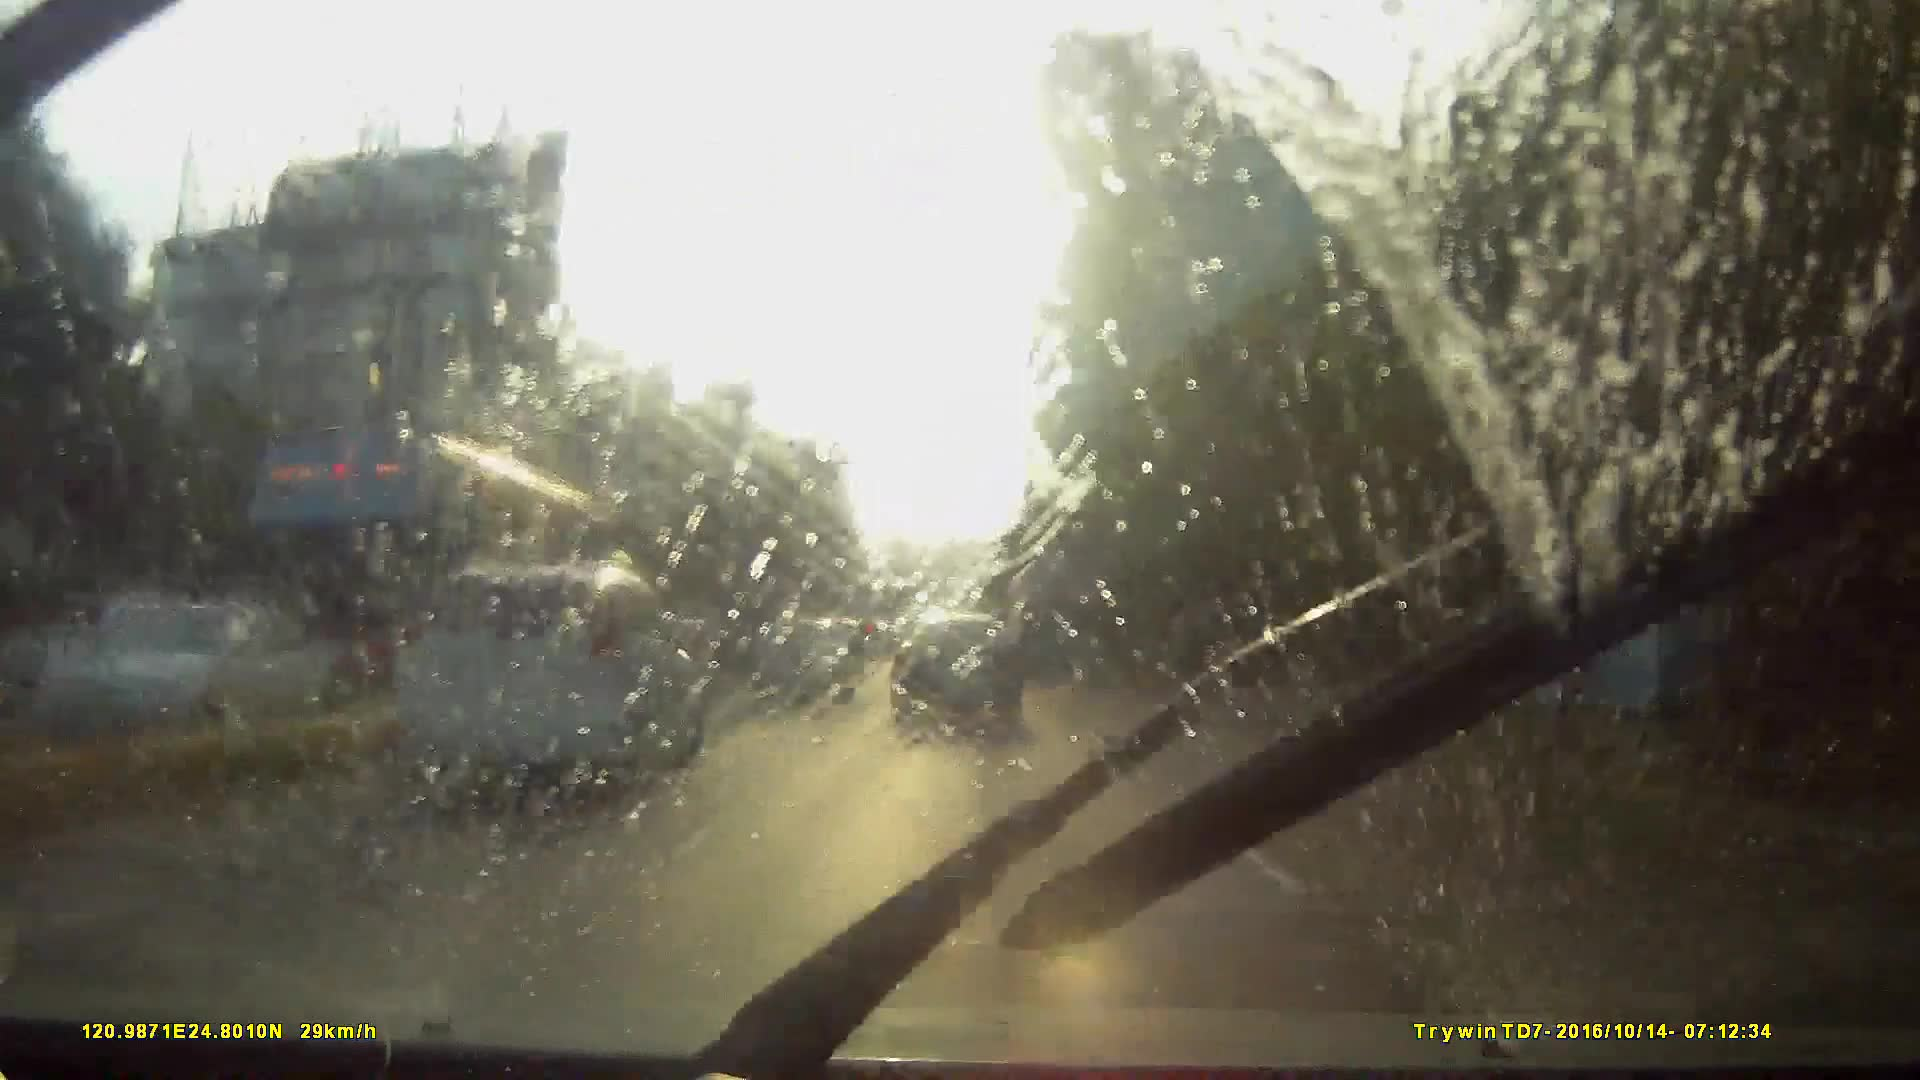vehicle: (181, 411, 640, 735), (251, 556, 684, 868), (404, 563, 708, 791), (890, 607, 1022, 736), (1004, 564, 1109, 690), (745, 625, 853, 712), (866, 638, 915, 687)
